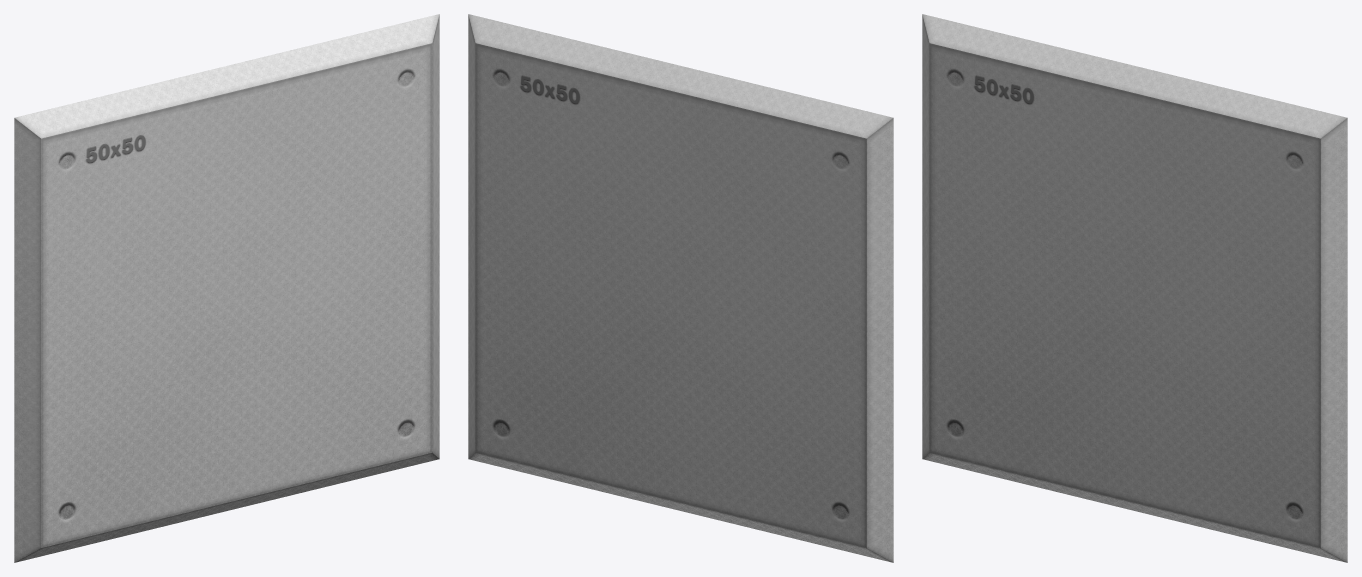
3 views of the same model, side by side, from view 1: azimuth 30°, elevation 25°; view 2: azimuth 150°, elevation 25°; view 3: azimuth 330°, elevation 25° (orthographic).
Parts seen in each view (by area): view 1: Box22; view 2: Box22; view 3: Box22.
Boxes of the visible parts, x1,y1,x2,y2 form: Box22: (14, 14, 439, 562); Box22: (468, 14, 893, 562); Box22: (922, 14, 1347, 562).
Size of the model in its own units: 50 by 50 by 4.
Materials: 1 (1 with a texture image).
